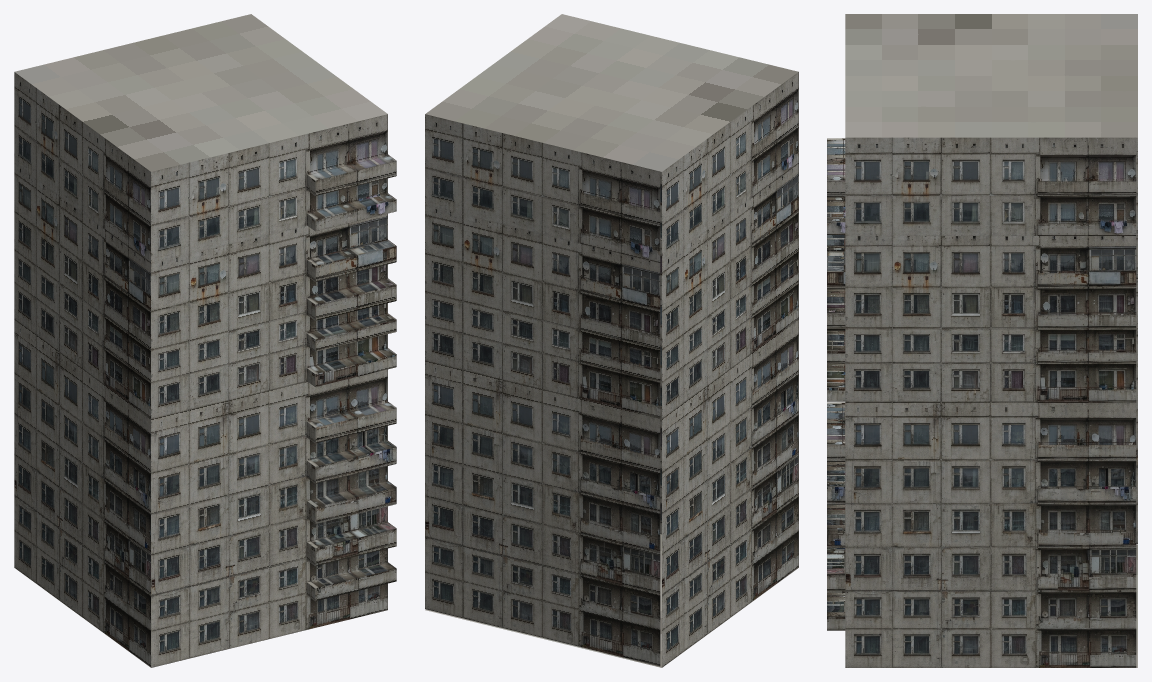
The model's file is building_04.gltf.
The picture shows the model from 3 angles, left to right: view 1: azimuth 30°, elevation 25°; view 2: azimuth 150°, elevation 25°; view 3: azimuth 270°, elevation 25°; orthographic projection. The views are drawn at different scales.
Visible parts, largest first — view 1: mesh; view 2: mesh; view 3: mesh.
Part boxes in pixels (x1=…): mesh: x1=14, y1=14, x2=396, y2=667; mesh: x1=425, y1=14, x2=798, y2=667; mesh: x1=827, y1=14, x2=1137, y2=667.
Size of the model in its own units: 1 by 2 by 1.06.
Materials: 1 (1 with a texture image).
